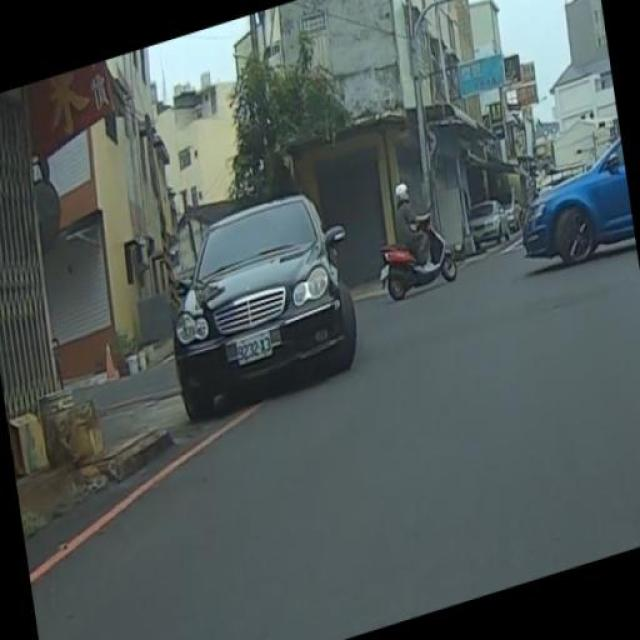illegalparking: (151, 181, 364, 436)
